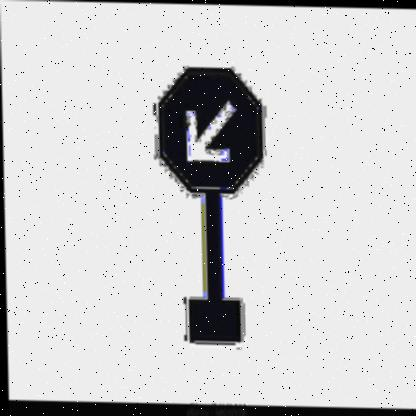Keep left: (155, 62, 268, 197)
